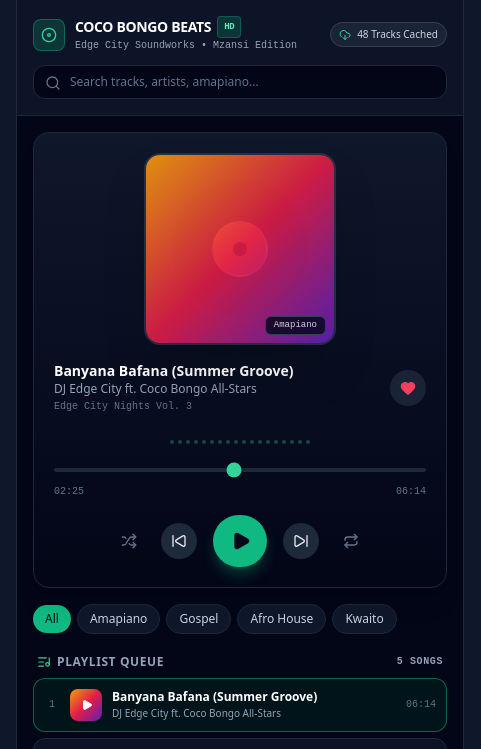
Test case: CocoBongoMusicFacade Component (Face 2: Music-Centered Camouflage) › filters playlist tracks by South African genre pills
// Filter by Gospel
Click the button "Gospel": click(199, 619) [166,604,231,634]
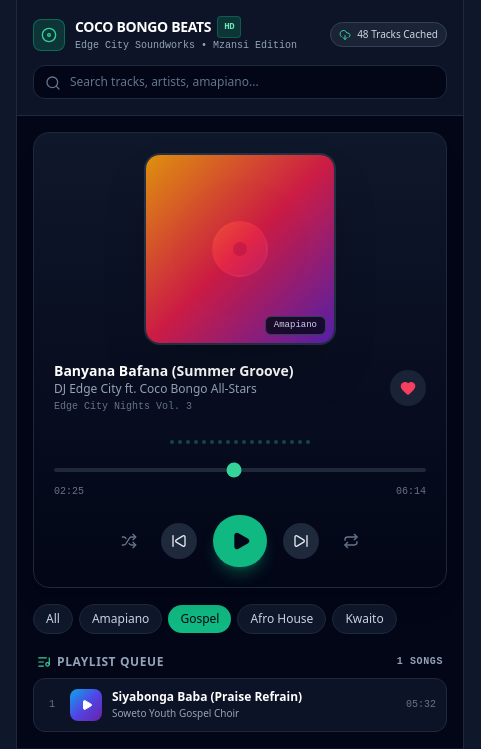
Expected: the text "Siyabonga Baba (Praise Refrain)" is shown, [112,689,302,705]
// Filter by Afro House
Click the button "Afro House": click(282, 619) [237,604,326,634]
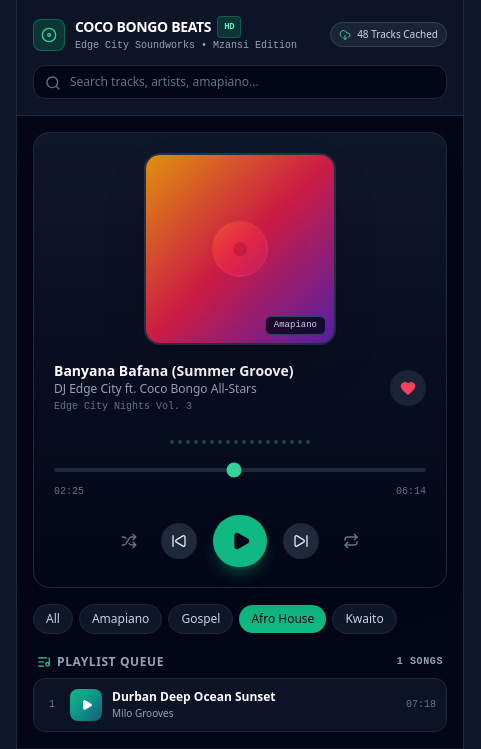
Expected: the text "Durban Deep Ocean Sunset" is shown, [112,689,276,705]
Expected: the text "Siyabonga Baba (Praise Refrain)" is gone
